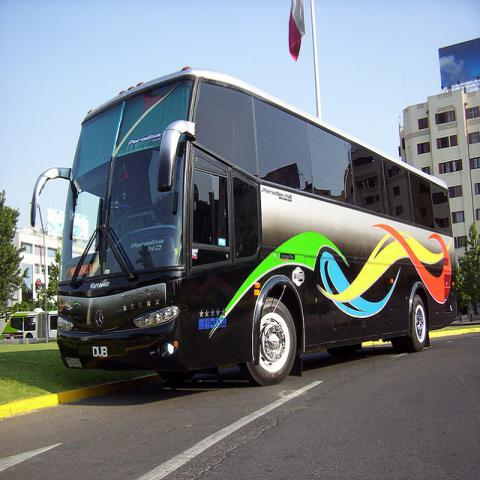bus: (30, 68, 459, 386)
